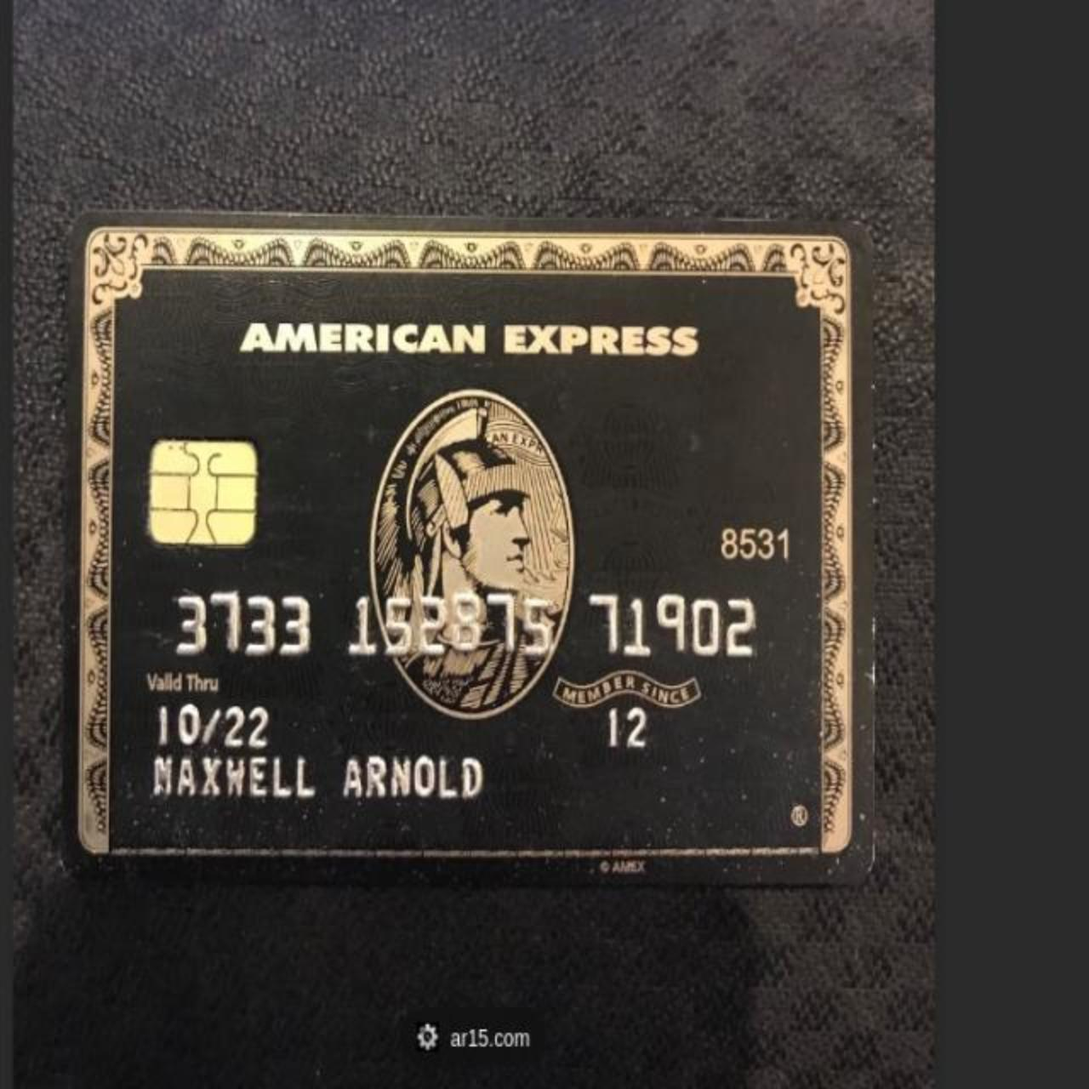credit_card: (71, 211, 871, 885)
